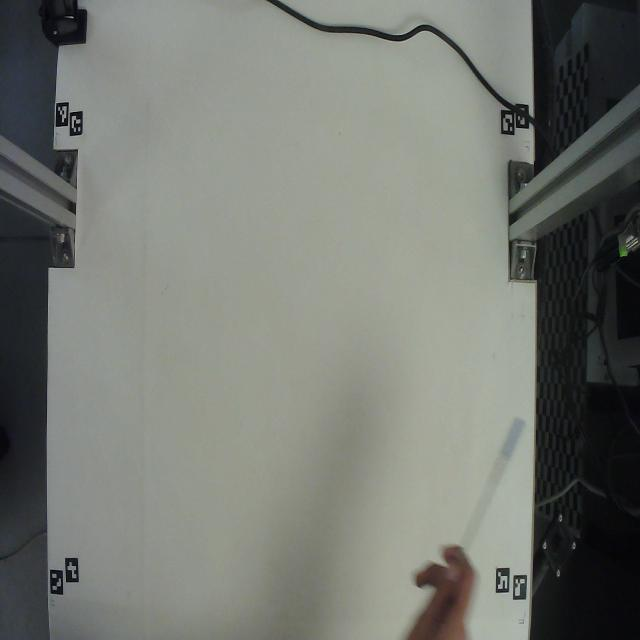NoPres: (442, 409, 528, 566)
